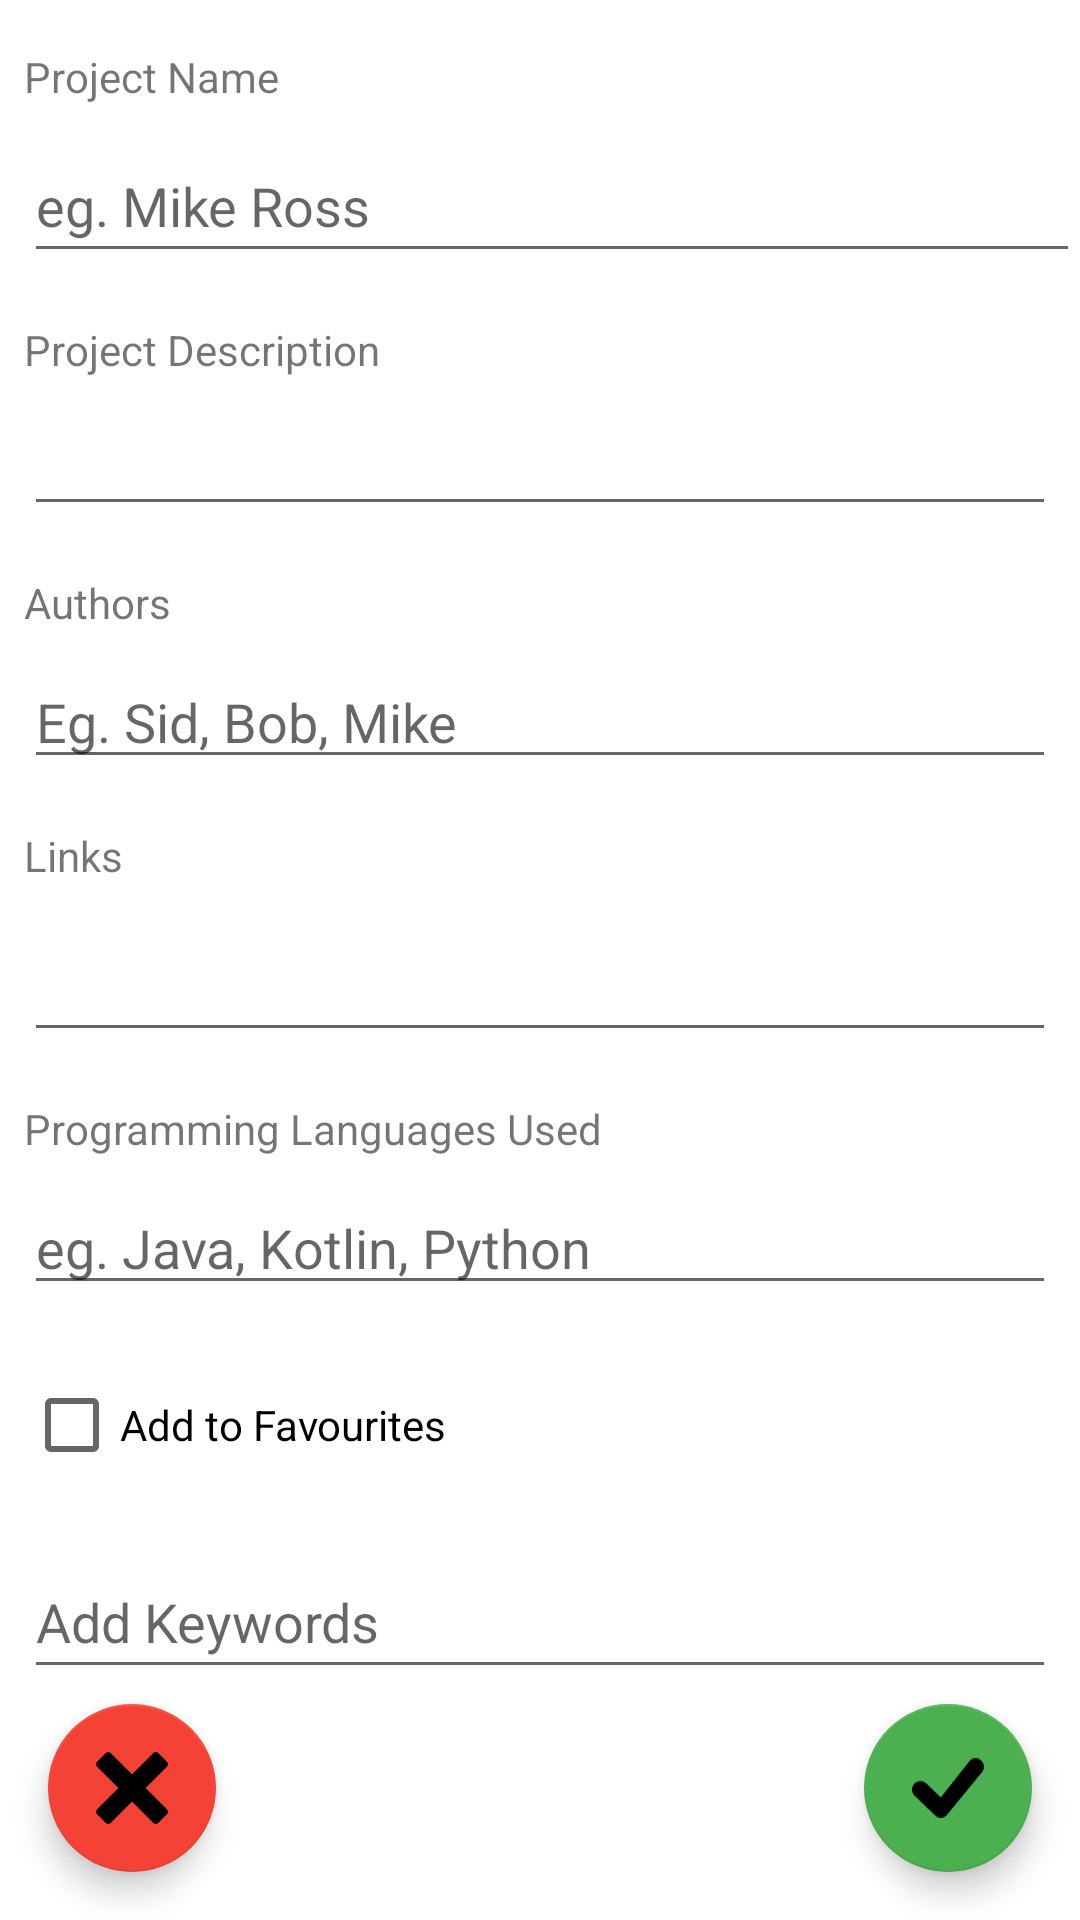

Icons on this 1080px×1920px Android screen, each with its box as (x1, y1, x2, y2):
clear: (48, 1704, 216, 1872)
submit: (864, 1704, 1032, 1872)
